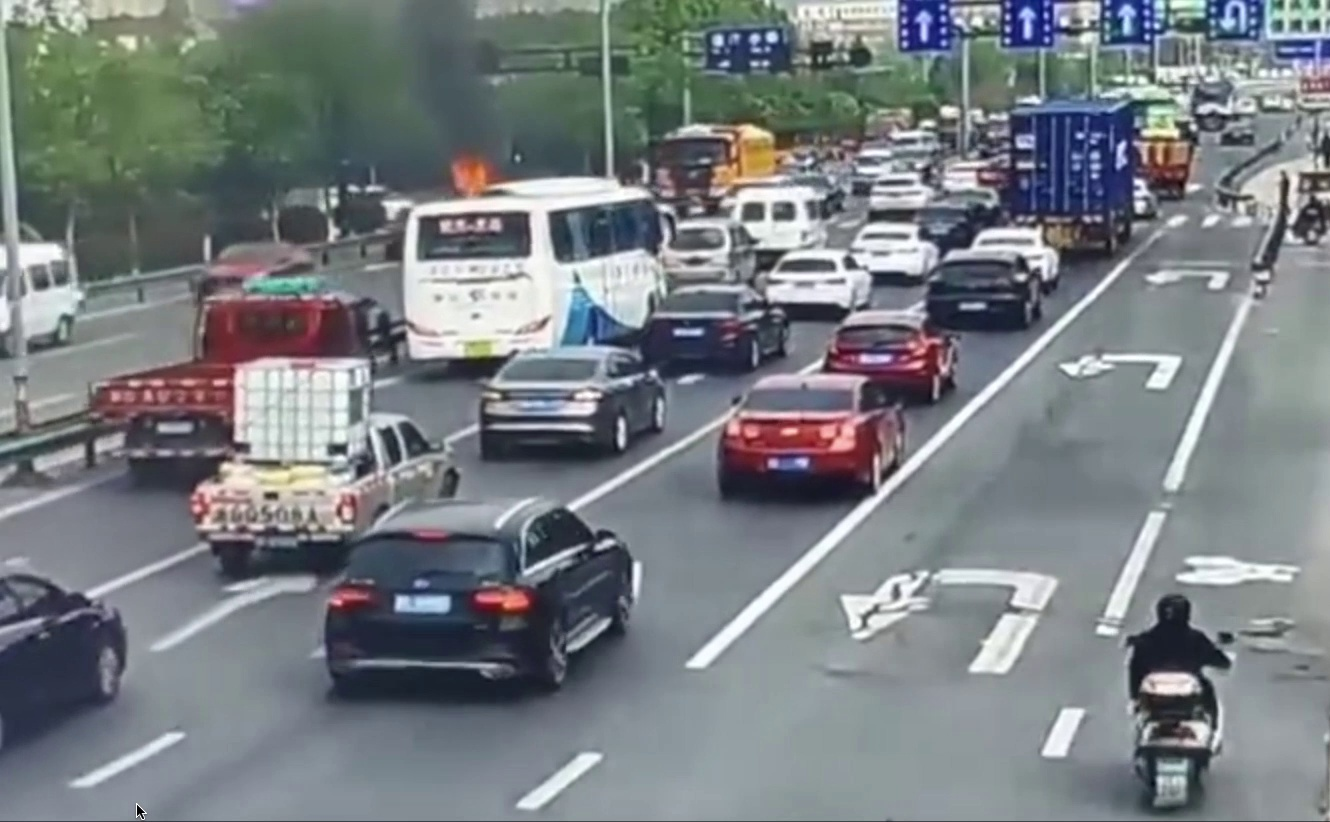smoke: (365, 4, 535, 190)
